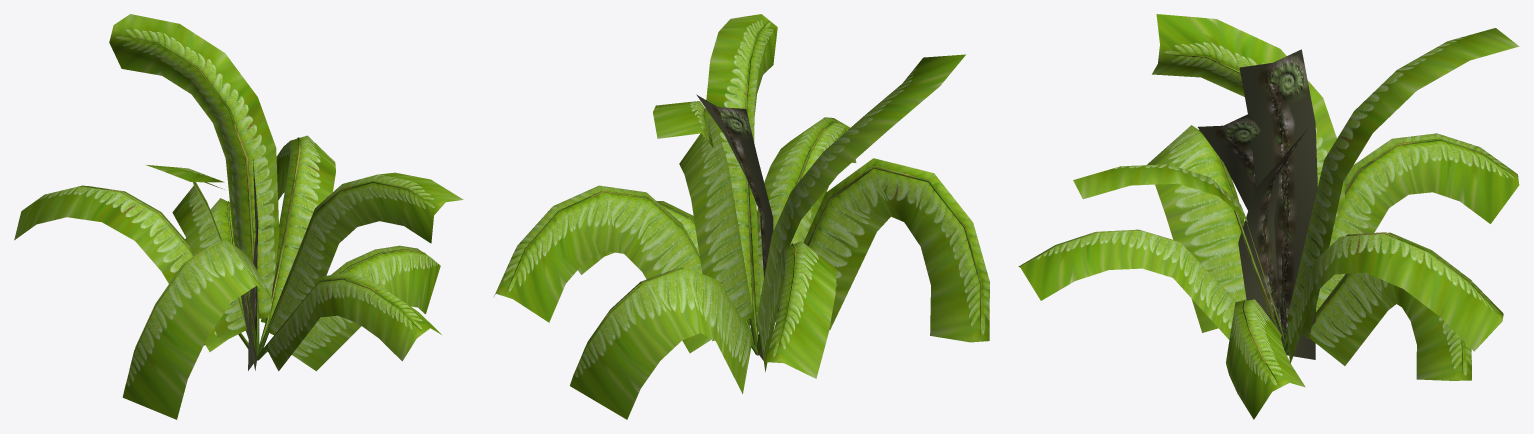
File: Boston_Fern_LowPoly.glb
The picture shows the model from 3 angles, left to right: view 1: azimuth 30°, elevation 25°; view 2: azimuth 150°, elevation 25°; view 3: azimuth 270°, elevation 25°; orthographic projection. The views are drawn at different scales.
Visible parts, largest first — view 1: Boston_Fern_Mobile_11; view 2: Boston_Fern_Mobile_11; view 3: Boston_Fern_Mobile_11.
Part boxes in pixels (<box>): Boston_Fern_Mobile_11: <box>14,14,463,419</box>; Boston_Fern_Mobile_11: <box>493,14,989,419</box>; Boston_Fern_Mobile_11: <box>1018,14,1519,419</box>.
Size of the model in its own units: 0.3666 by 0.2934 by 0.4174.
Materials: 3 (3 with a texture image).
